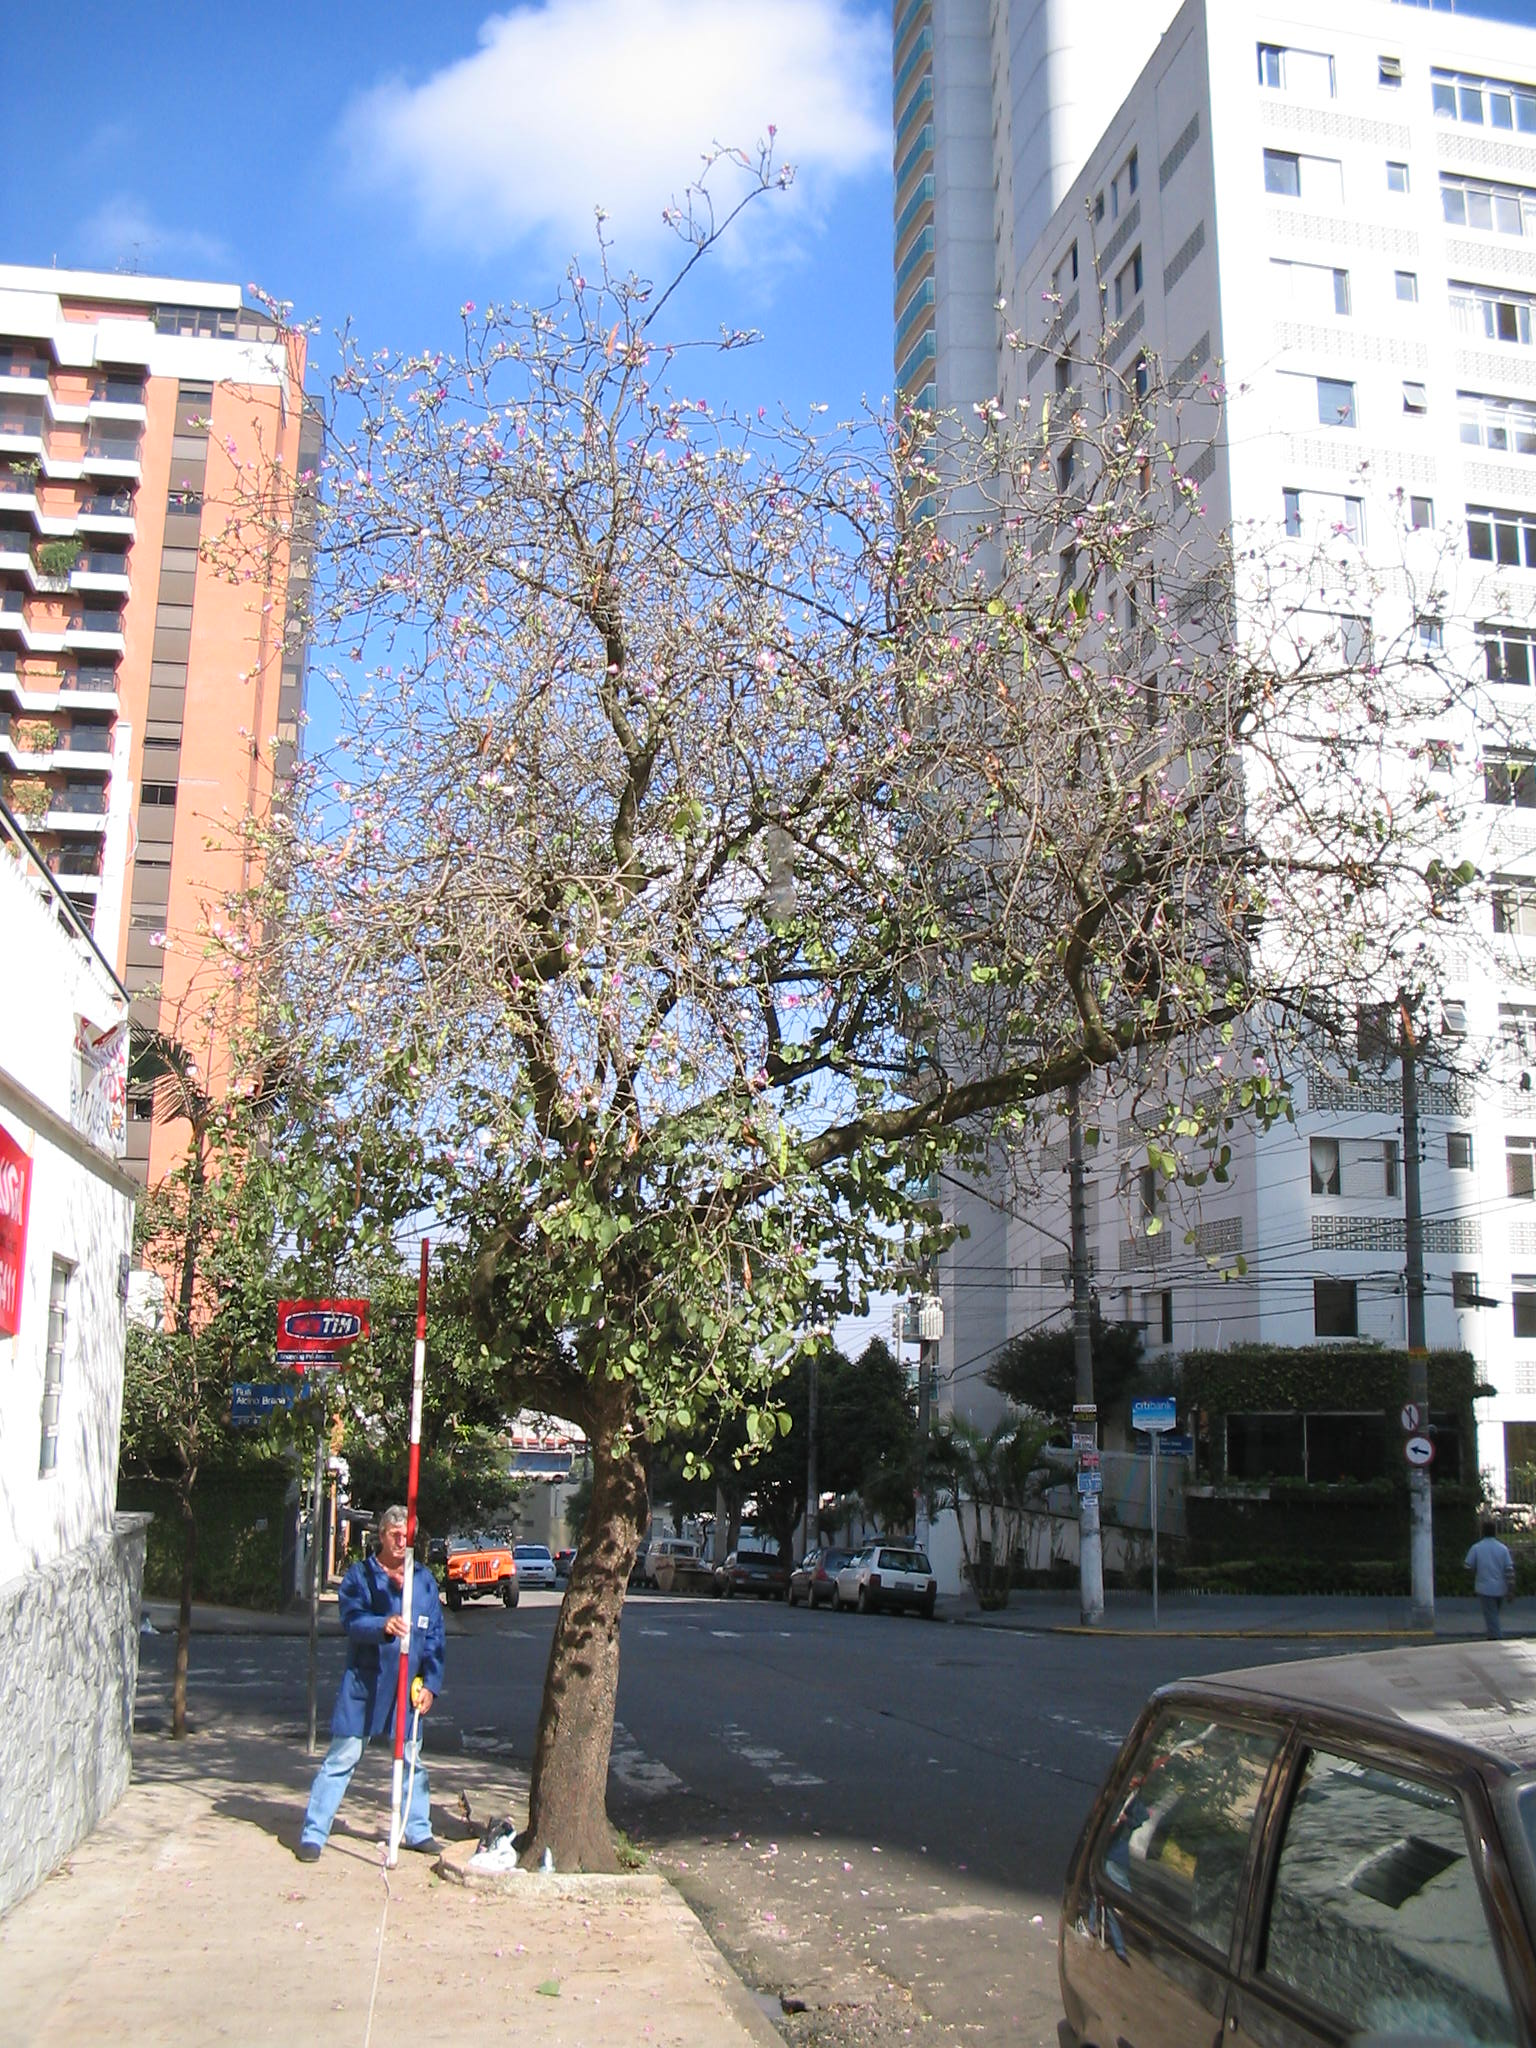crown: (177, 121, 1507, 1445)
stem: (502, 1405, 715, 1874)
stick: (357, 1234, 449, 1871)
tree: (161, 116, 1510, 1879)
